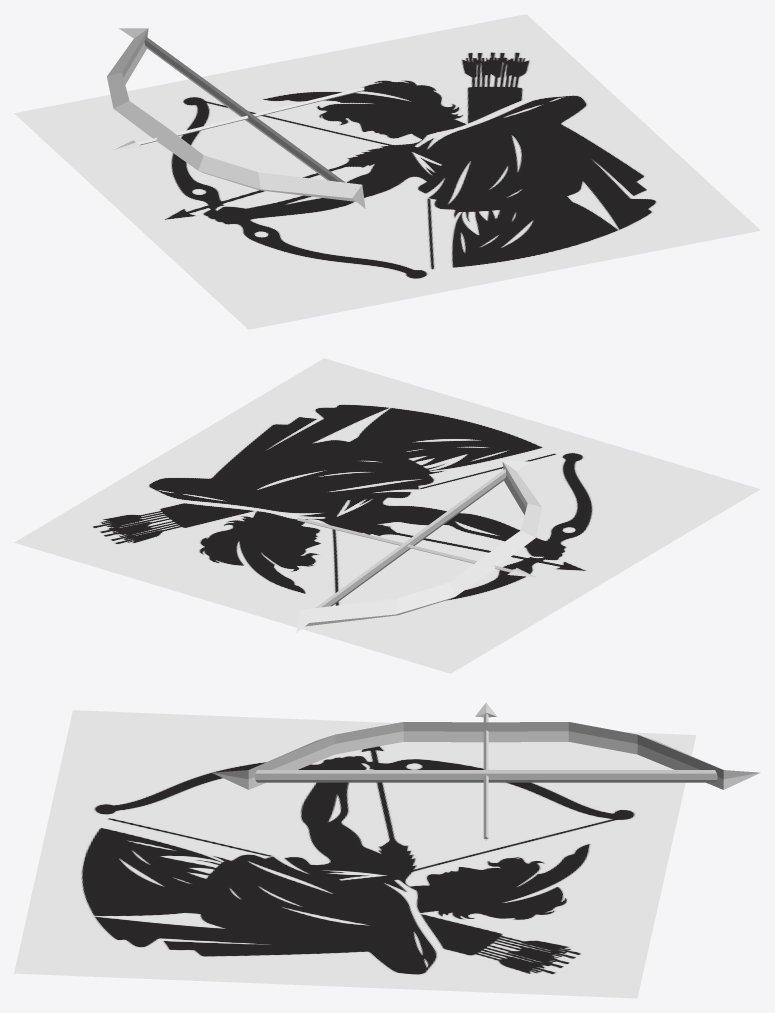
File: TST_Bow.glb
3 views of the same model, one above another, from view 1: azimuth 30°, elevation 25°; view 2: azimuth 150°, elevation 25°; view 3: azimuth 270°, elevation 25° (orthographic). The views are drawn at different scales.
Parts seen in each view (by area): view 1: apollo-illustration-drawing-bow-and-arrow-image-design-vecto, Bow Frame, Bow Draw, Arrow Body; view 2: apollo-illustration-drawing-bow-and-arrow-image-design-vecto, Bow Frame, Bow Draw, Arrow Body; view 3: apollo-illustration-drawing-bow-and-arrow-image-design-vecto, Bow Frame, Bow Draw, Arrow Body.
Boxes of the visible parts, box(x1,y1,x2,y2) form: apollo-illustration-drawing-bow-and-arrow-image-design-vecto: box(14, 14, 760, 329); Bow Frame: box(107, 28, 365, 208); Bow Draw: box(144, 36, 355, 189); Arrow Body: box(136, 87, 364, 145); apollo-illustration-drawing-bow-and-arrow-image-design-vecto: box(14, 358, 760, 673); Bow Frame: box(296, 461, 541, 632); Bow Draw: box(315, 469, 506, 607); Arrow Body: box(297, 517, 513, 572); apollo-illustration-drawing-bow-and-arrow-image-design-vecto: box(14, 710, 696, 998); Bow Frame: box(212, 722, 760, 789); Bow Draw: box(254, 770, 717, 782); Arrow Body: box(483, 713, 488, 840).
Size of the model in its own units: 49.04 by 3.55 by 53.68.
1 material, 1 textured.
